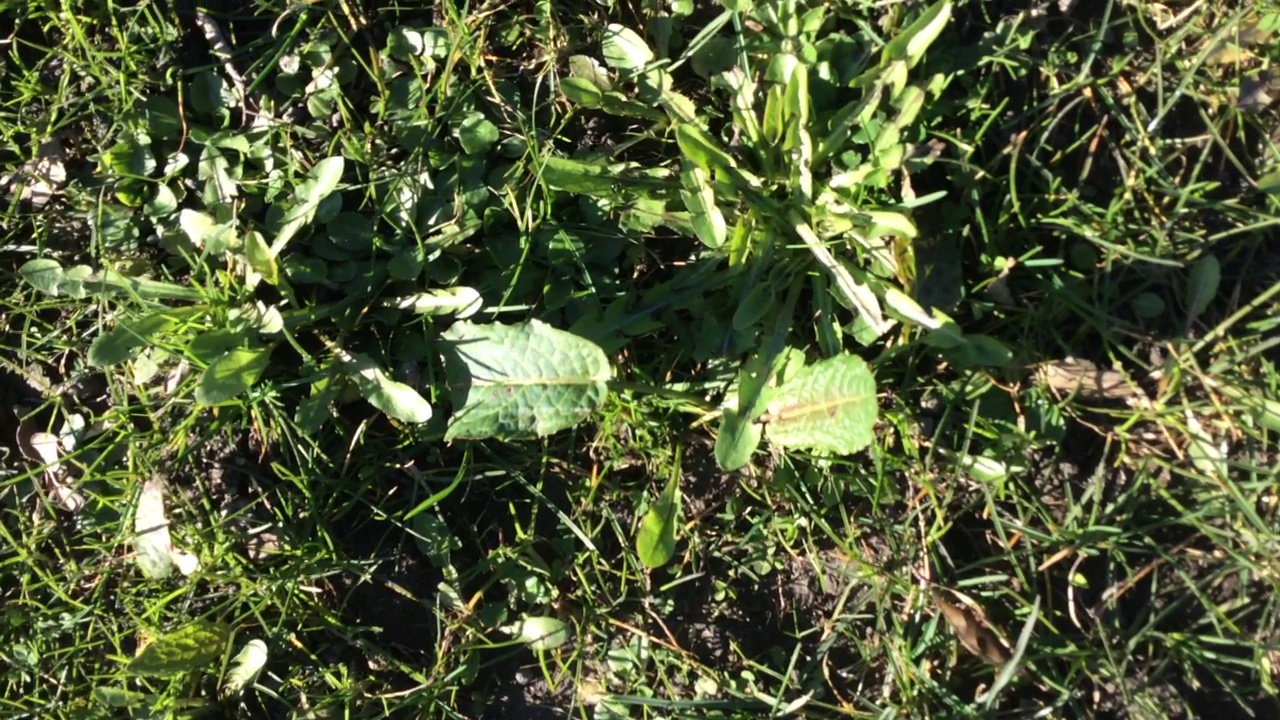rumex: (417, 321, 608, 442), (740, 351, 876, 452)
